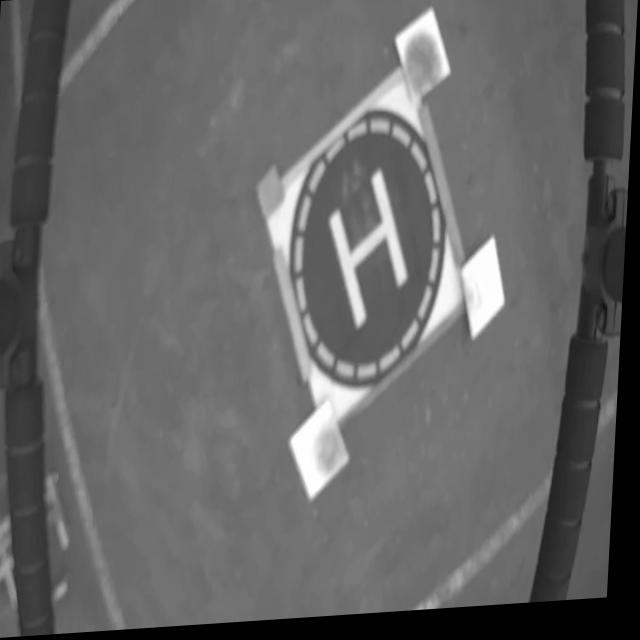Helipad: (330, 172, 412, 334)
